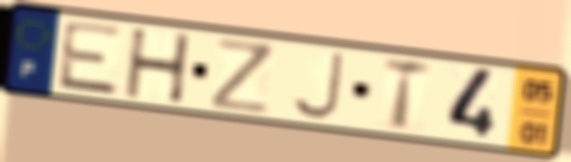4: (442, 64, 505, 145)
E: (54, 18, 127, 99)
H: (123, 27, 195, 106)
J: (288, 50, 348, 122)
T: (380, 54, 434, 134)
Z: (209, 35, 276, 118)
